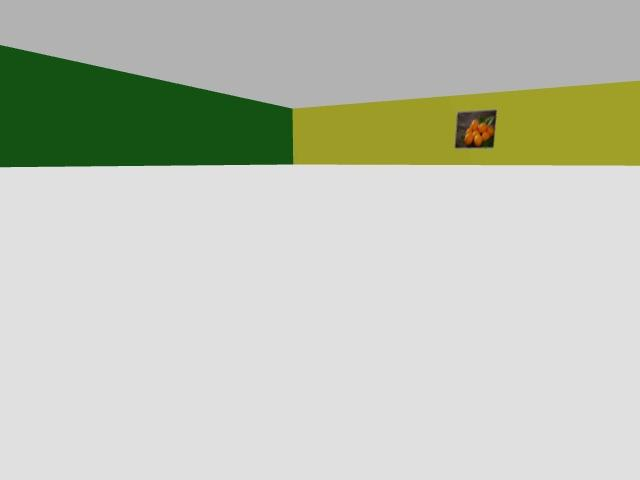orange: (474, 134, 483, 147), (464, 133, 473, 145), (478, 122, 486, 133), (481, 131, 490, 140), (470, 119, 477, 129), (487, 125, 494, 135), (466, 128, 473, 134), (472, 126, 477, 133)
